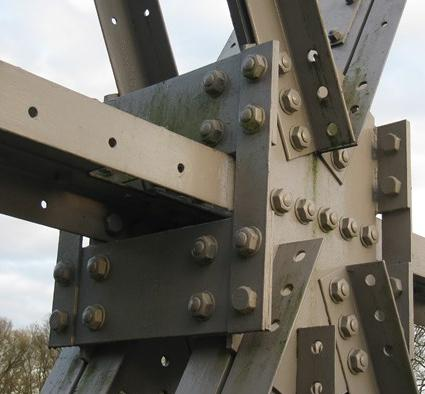bolt_b: (185, 234, 217, 268), (184, 289, 218, 321), (197, 114, 226, 146), (237, 102, 265, 134), (232, 226, 260, 257), (344, 344, 372, 375), (277, 85, 305, 115), (239, 53, 267, 82), (78, 302, 105, 332), (286, 121, 313, 151), (83, 251, 109, 281), (327, 273, 351, 305), (335, 309, 360, 339), (271, 184, 294, 216), (200, 70, 226, 97), (296, 193, 317, 226), (273, 49, 297, 76), (319, 204, 338, 234), (342, 211, 359, 242), (362, 219, 380, 248), (333, 147, 352, 170)
vague: (229, 281, 261, 317), (48, 257, 77, 286), (375, 170, 403, 198), (377, 129, 404, 158), (45, 307, 68, 338), (101, 211, 126, 238), (322, 24, 344, 43)
